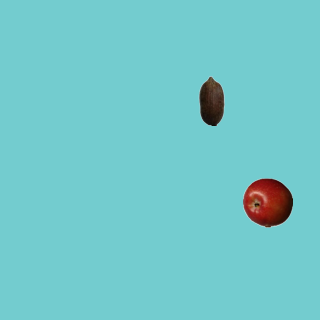Apple Braeburn: (242, 177, 292, 227)
Nut Pecan: (186, 75, 236, 125)
